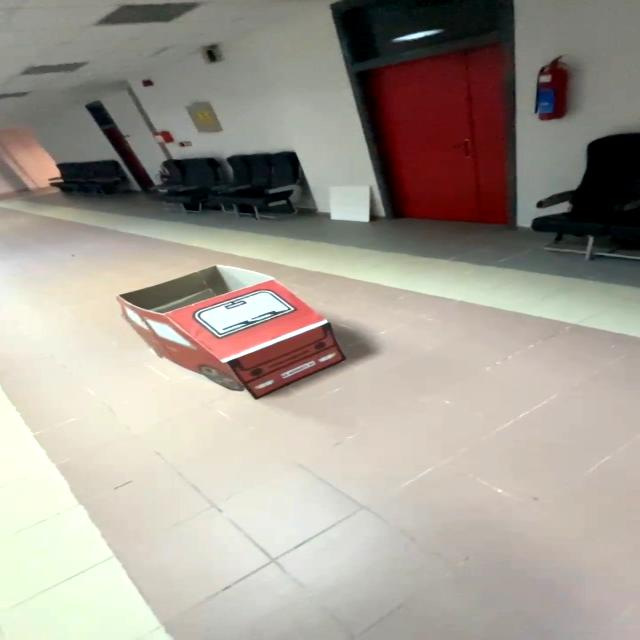red_car: (98, 251, 391, 424)
